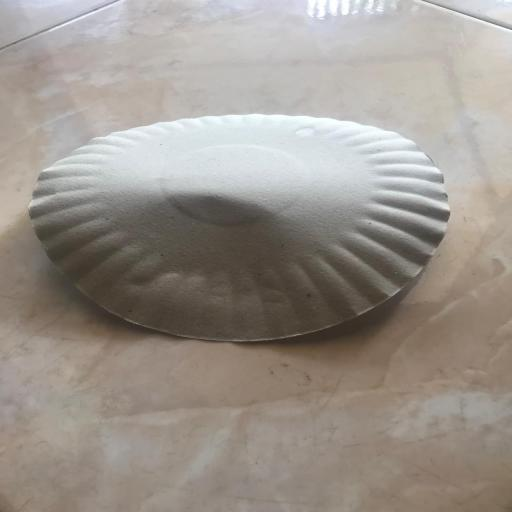waste: (23, 110, 462, 348)
